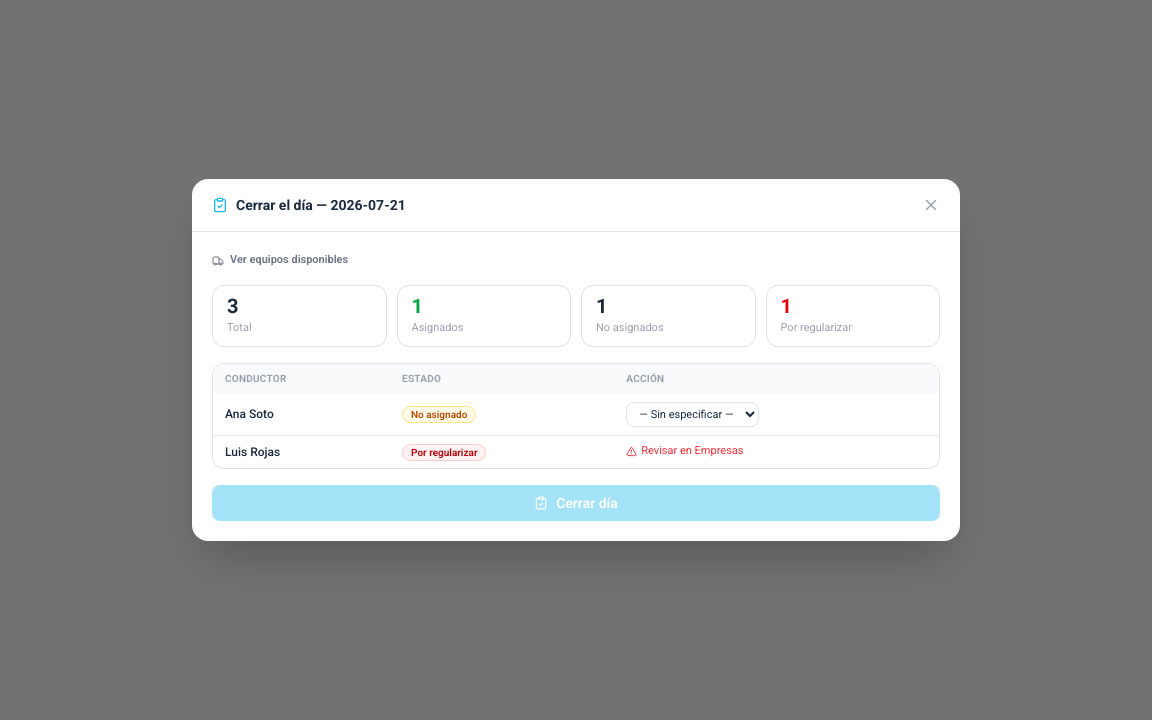
Test: CloseDayDialog › clickear "No asignados" muestra conductores que ya tienen motivo asignado, con su select para cambiarlo
Expected: the text "Ana Soto" is shown, x1=213 y1=394 x2=390 y2=435
Expected: the text "Carla Díaz" is not shown
Click the button "1 No asignados". click: (668, 316)
box: x1=581 y1=285 x2=756 y2=347
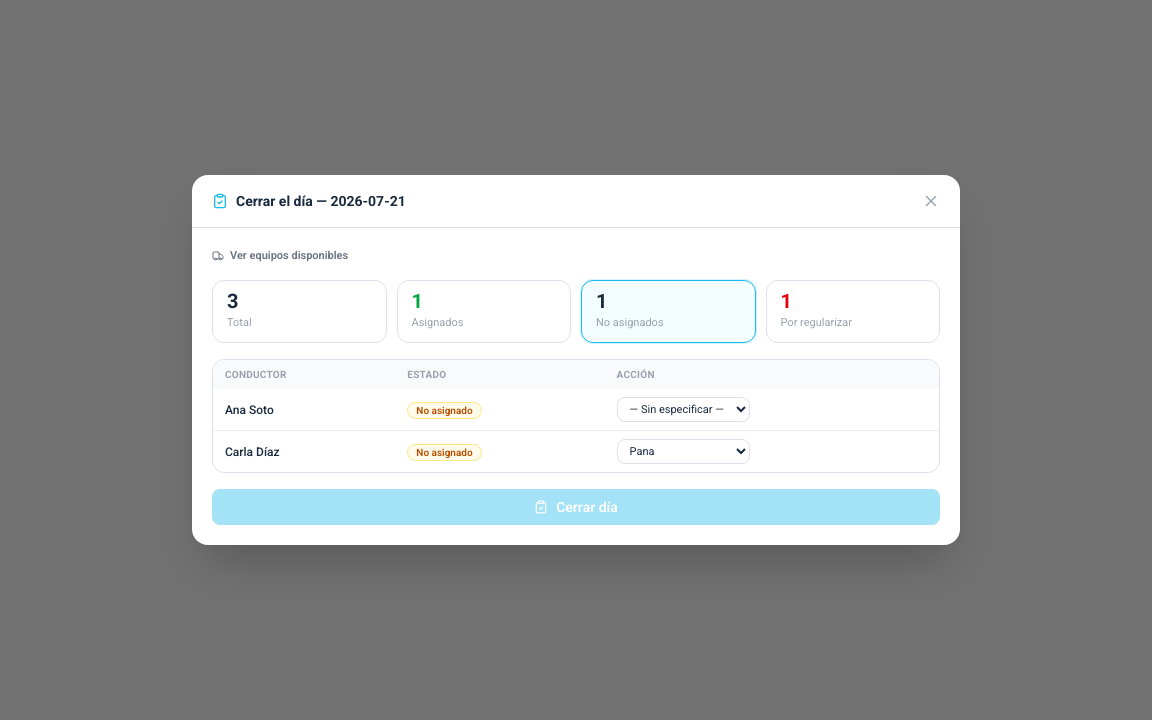
Expected: the text "Carla Díaz" is shown, x1=213 y1=431 x2=395 y2=472
Expected: the dropdown in the row of "Carla Díaz" shows "Pana", x1=617 y1=439 x2=750 y2=464
